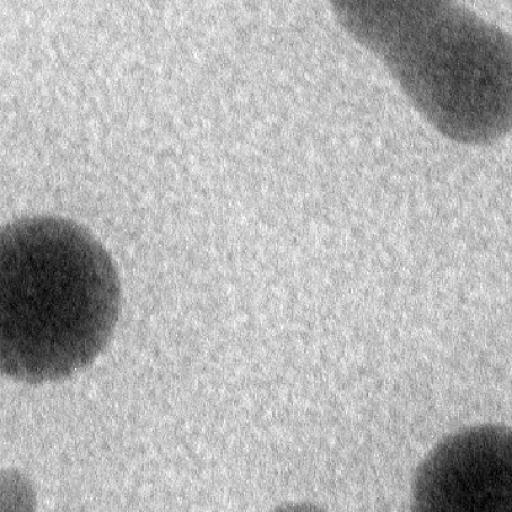Nanoparticles: (2, 214, 120, 382)
